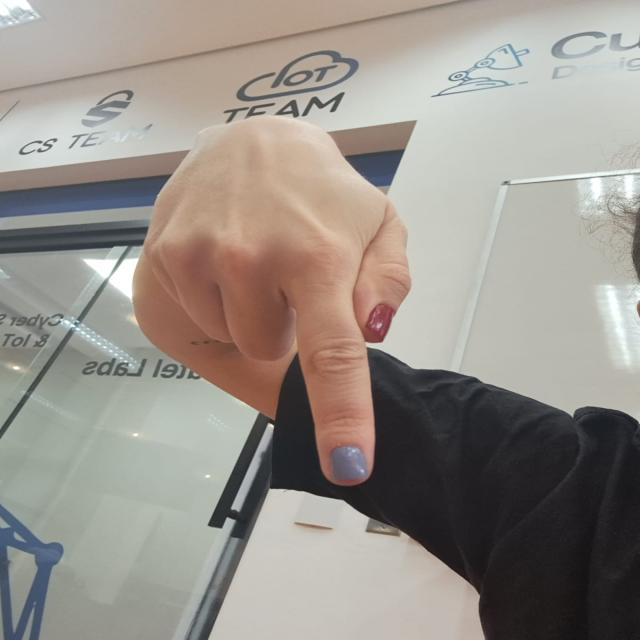Q: (128, 110, 416, 508)
